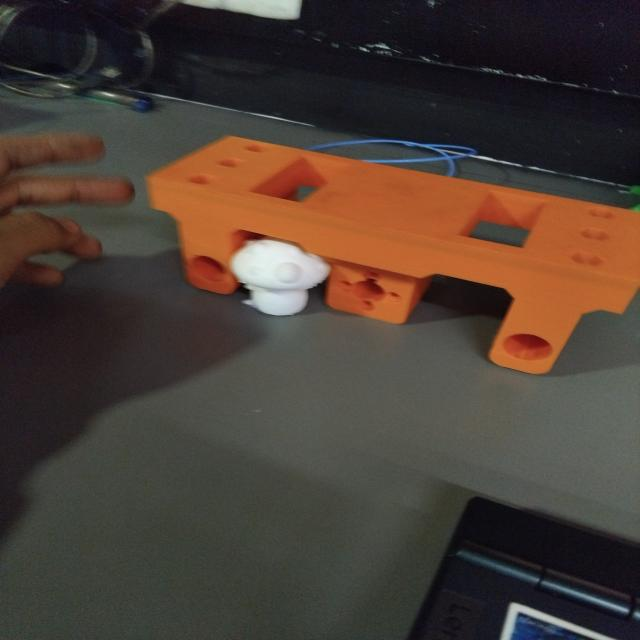Hongo: (223, 229, 336, 322)
